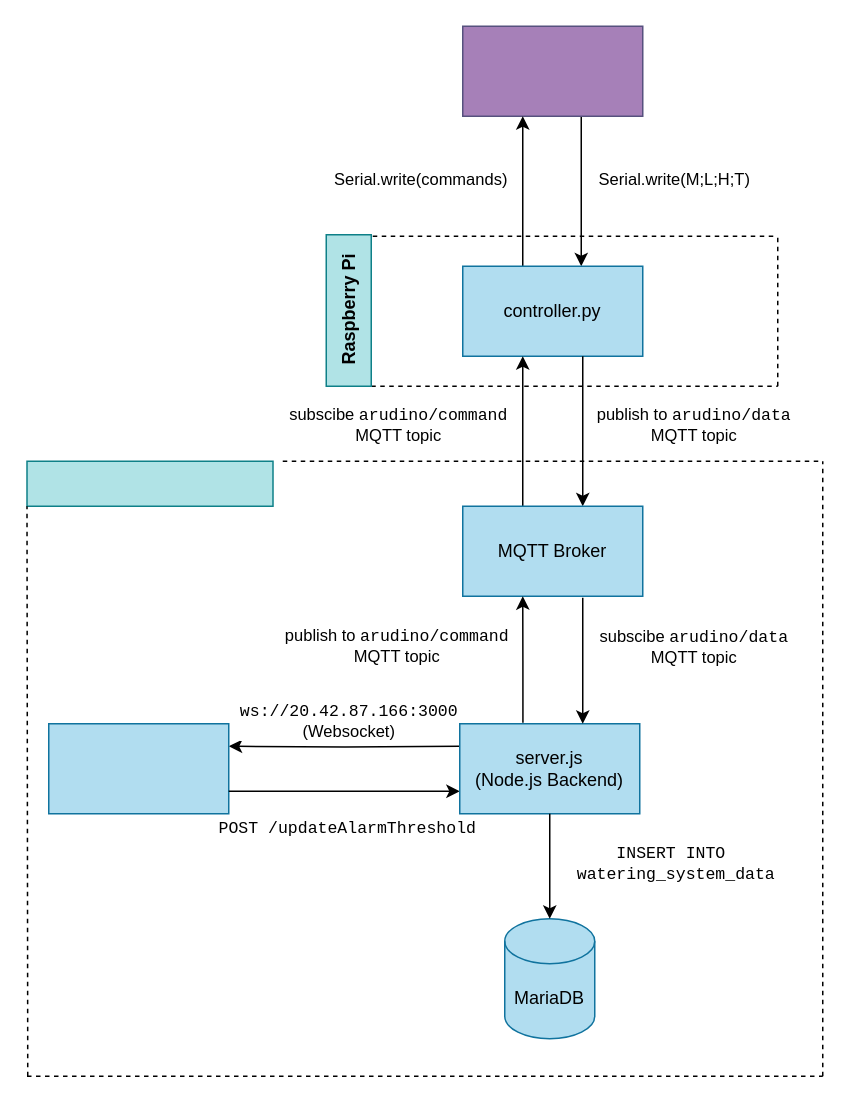
Some shapes in this 851 by 1104 pixel diagram are drawn without their labels. Each missing label, with the centre of its shape:
Dashboard: (x=138, y=768)
IoT Node: (x=552, y=70)
Microsoft Azure Cloud: (x=149, y=483)
